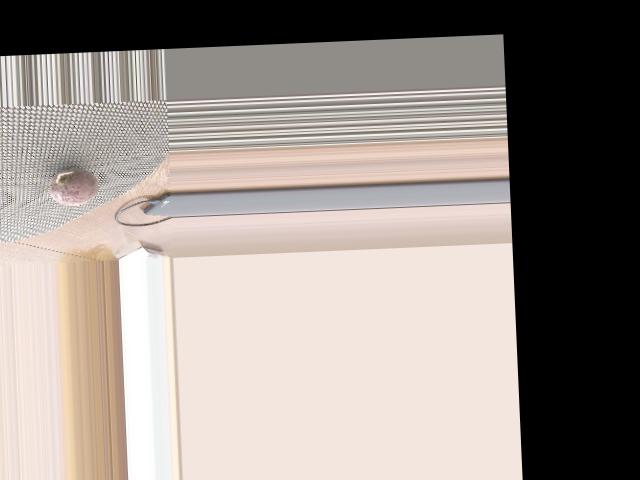beet: (49, 167, 99, 206)
